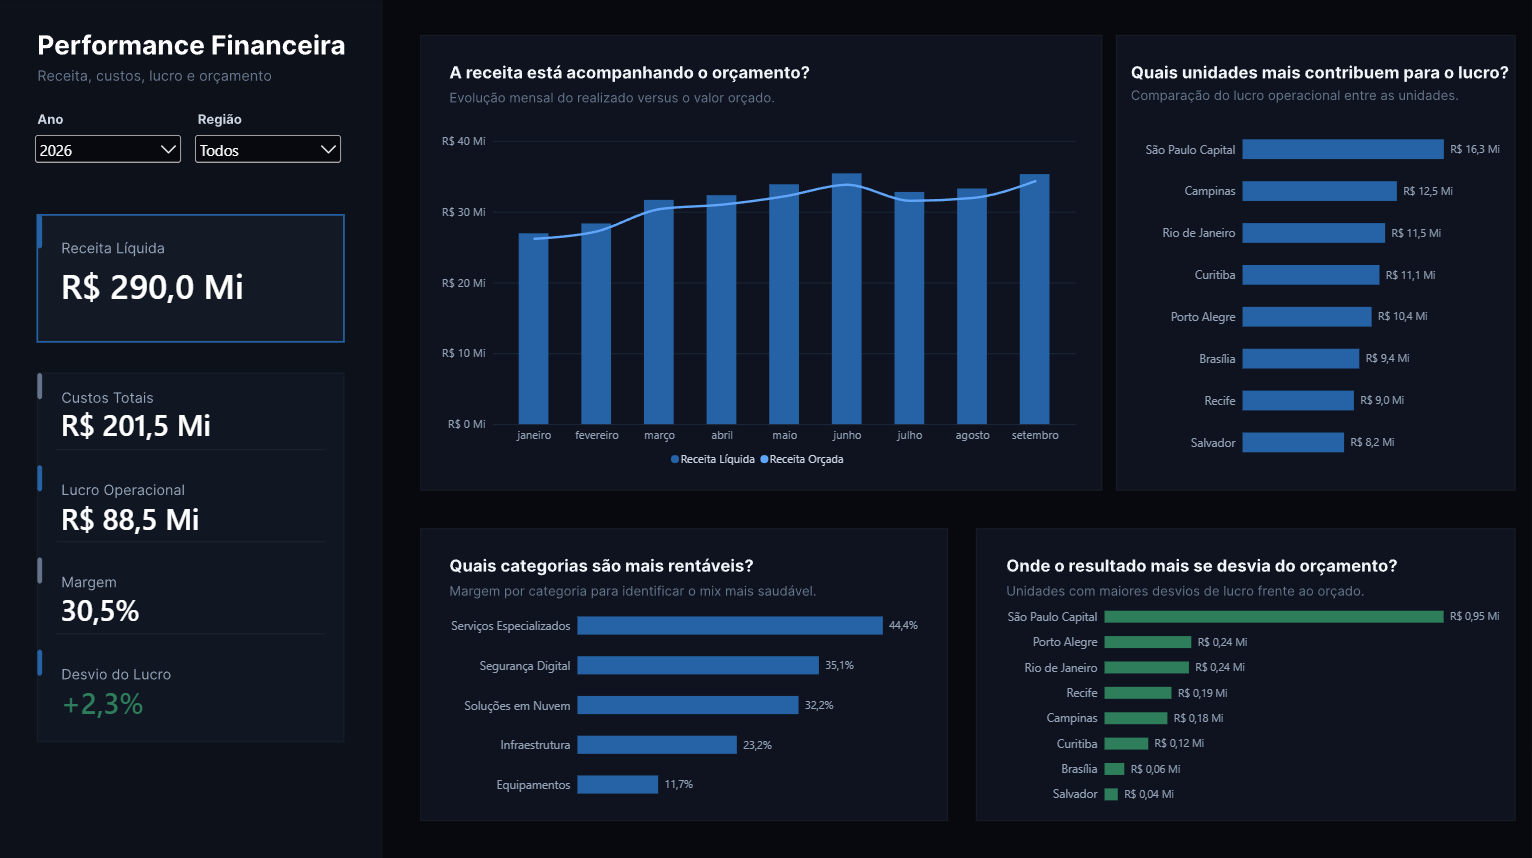

This screenshot's page, from the dashboard's own definition file:
{"tool":"powerbi","page":{"name":"Performance Financeira","canvas":[1920,1080],"ordinal":0},"visuals":[{"type":"cardVisual","fields":{"Data":["_Medidas.Receita Líquida"]},"box":[61.9,276.1,371.7,164.3],"z":0},{"type":"cardVisual","fields":{"Data":["_Medidas.Custos Totais"]},"box":[61.9,451,371.7,164.3],"z":1000},{"type":"cardVisual","fields":{"Data":["_Medidas.Lucro Operacional"]},"box":[61.9,568.3,371.7,164.3],"z":2000},{"type":"cardVisual","fields":{"Data":["_Medidas.Margem %"]},"box":[61.9,682.7,371.7,164.3],"z":3000},{"type":"cardVisual","fields":{"Data":["_Medidas.Desvio Lucro %"]},"box":[61.9,799.9,371.7,164.3],"z":4000},{"type":"lineStackedColumnComboChart","fields":{"Category":["DimCalendario.AnoMes.Variation.Hierarquia de datas.Mês"],"Y":["_Medidas.Receita Líquida"],"Y2":["_Medidas.Receita Orçada"]},"box":[538.7,152.6,826.8,453.8],"z":5000},{"type":"barChart","fields":{"Category":["DimUnidade.Unidade"],"Y":["_Medidas.Lucro Operacional"]},"box":[1412,132.8,484.9,473.6],"z":6000},{"type":"barChart","fields":{"Category":["DimCategoria.Categoria"],"Y":["_Medidas.Margem %"]},"box":[538.7,731.7,632.7,301.9],"z":7000},{"type":"barChart","fields":{"Category":["DimUnidade.Unidade"],"Y":["_Medidas.Desvio Lucro"]},"box":[1239.1,731.7,657.8,301.9],"z":8000},{"type":"slicer","fields":{"Values":["DimCalendario.Ano"]},"box":[40.4,165.6,192.6,51.2],"z":9000},{"type":"slicer","fields":{"Values":["DimUnidade.Regiao"]},"box":[241,165.6,192.6,51.2],"z":10000}]}

Visuals, with their boxes in screenshot pixels (x1, y1, x2, y2), scaled from the page's 1920x1080 canvas onto the 1532x858 screenshot:
cardVisual - _Medidas.Receita Líquida: crop(49, 219, 346, 350)
cardVisual - _Medidas.Custos Totais: crop(49, 358, 346, 489)
cardVisual - _Medidas.Lucro Operacional: crop(49, 451, 346, 582)
cardVisual - _Medidas.Margem %: crop(49, 542, 346, 673)
cardVisual - _Medidas.Desvio Lucro %: crop(49, 635, 346, 766)
lineStackedColumnComboChart - DimCalendario.AnoMes.Variation.Hierarquia de datas.Mês x _Medidas.Receita Líquida: crop(430, 121, 1090, 482)
barChart - DimUnidade.Unidade x _Medidas.Lucro Operacional: crop(1127, 106, 1514, 482)
barChart - DimCategoria.Categoria x _Medidas.Margem %: crop(430, 581, 935, 821)
barChart - DimUnidade.Unidade x _Medidas.Desvio Lucro: crop(989, 581, 1514, 821)
slicer - DimCalendario.Ano: crop(32, 132, 186, 172)
slicer - DimUnidade.Regiao: crop(192, 132, 346, 172)
